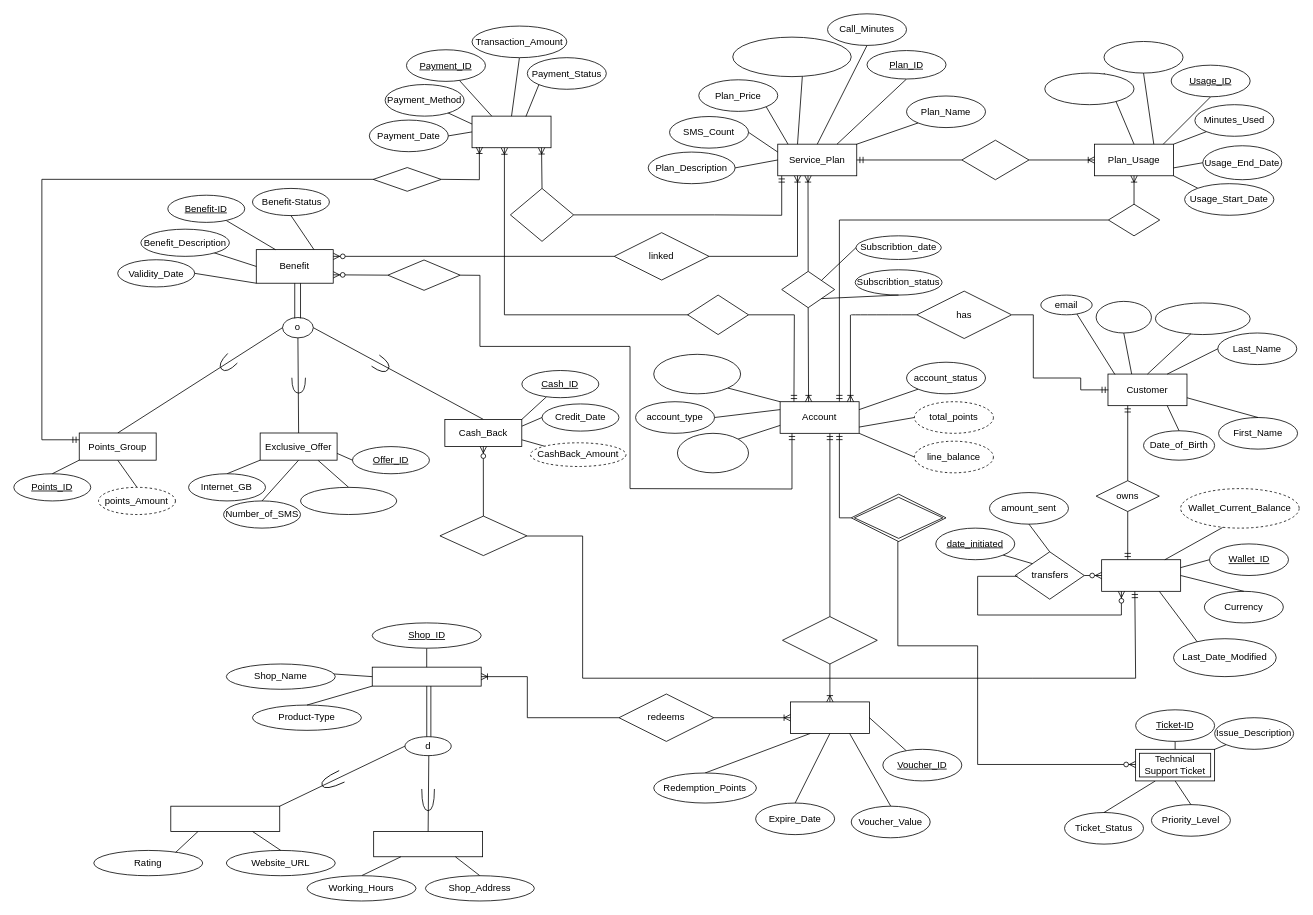
Image size: 1313x915. Some labels were removed from this diagram. The centre of each missing label's shape, as x and y in pixels:
account_start_date: point (697, 374)
associated: point (995, 159)
awarded: point (483, 535)
Customer_address: point (1202, 318)
data_consumption: point (1089, 88)
E_Shop: point (225, 818)
earned: point (406, 179)
Entitled: point (423, 274)
holds: point (829, 640)
initiates: point (718, 314)
mobile_number: point (713, 453)
National_ID: point (1123, 317)
Offered_Call_Minutes: point (348, 501)
Payment: point (511, 131)
Physical_Shop: point (428, 844)
plan_internet_GB: point (791, 56)
processes: point (542, 214)
raises: point (898, 517)
Shop: point (426, 676)
SMS_sent: point (1143, 57)
Subscribe: point (808, 289)
tracks: point (1134, 219)
Voucher: point (829, 717)
Wallet: point (1141, 575)
